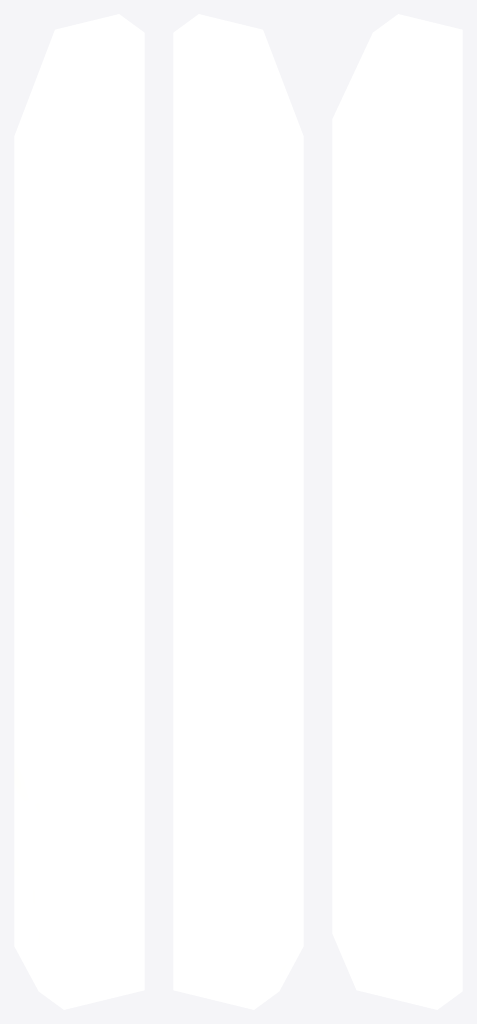
The model's file is scifikitstructure12.glb.
3 views of the same model, side by side, from view 1: azimuth 30°, elevation 25°; view 2: azimuth 150°, elevation 25°; view 3: azimuth 330°, elevation 25° (orthographic).
Parts seen in each view (by area): view 1: SciFiKitStructure12; view 2: SciFiKitStructure12; view 3: SciFiKitStructure12.
Boxes of the visible parts, x1=… form: SciFiKitStructure12: x1=14, y1=14, x2=144, y2=1009; SciFiKitStructure12: x1=173, y1=14, x2=303, y2=1009; SciFiKitStructure12: x1=332, y1=14, x2=462, y2=1009.
Bounding box in the file's own units: 0.3242 × 2.83 × 0.136.
Materials: 1 (1 with a texture image).
